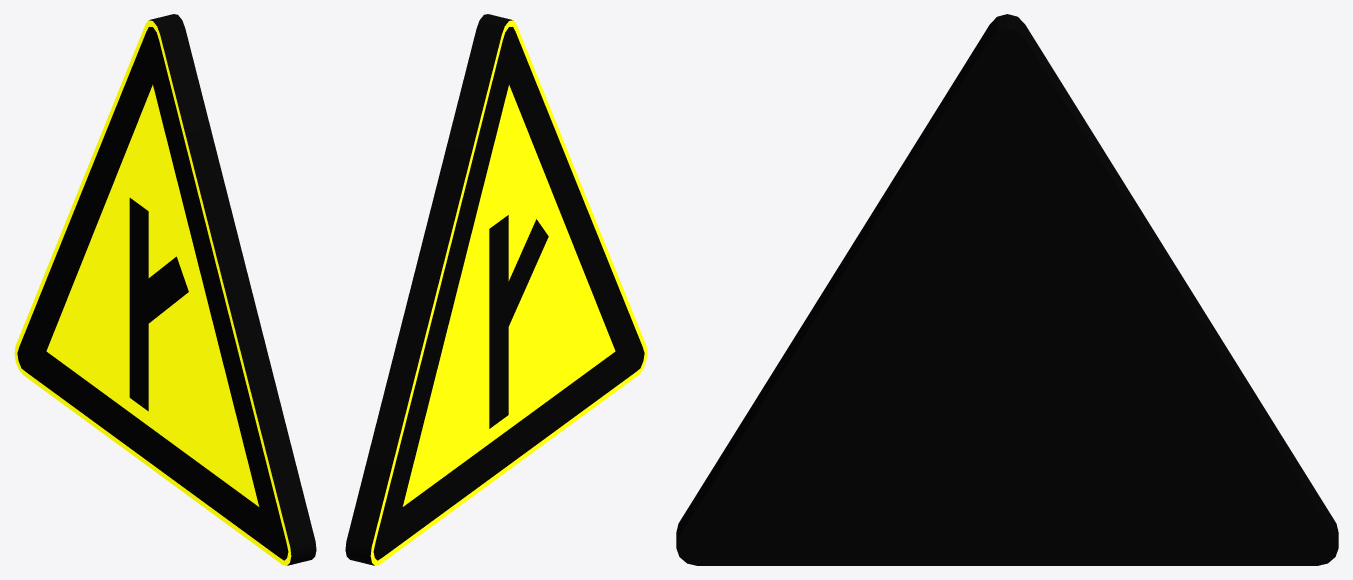
The model's file is Y_Crossing-4.glb.
3 views of the same model, side by side, from view 1: azimuth 30°, elevation 25°; view 2: azimuth 150°, elevation 25°; view 3: azimuth 270°, elevation 25° (orthographic). The views are drawn at different scales.
Visible parts, largest first — view 1: Y_Crossing_4; view 2: Y_Crossing_4; view 3: Y_Crossing_4.
Part boxes in pixels (x1,y1,x2,y2): Y_Crossing_4: (14,14,316,565); Y_Crossing_4: (345,14,647,565); Y_Crossing_4: (676,14,1338,565).
Size of the model in its own units: 0.0643 by 1.02 by 1.14.
